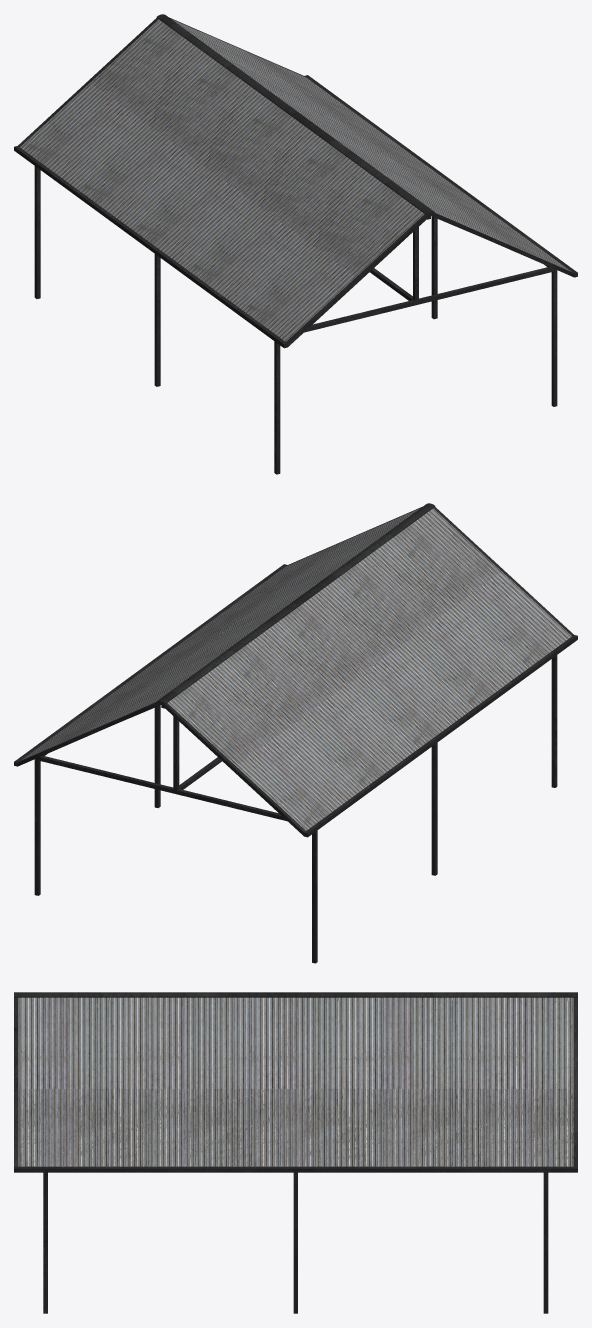
The model's file is carport1.glb.
3 views of the same model, one above another, from view 1: azimuth 30°, elevation 25°; view 2: azimuth 150°, elevation 25°; view 3: azimuth 270°, elevation 25° (orthographic). The views are drawn at different scales.
Parts seen in each view (by area): view 1: Plane.015, Plane.008; view 2: Plane.015, Plane.008; view 3: Plane.015, Plane.008.
Part boxes in pixels (box(x1,y1,x2,y2)): Plane.015: box(20, 19, 571, 341); Plane.008: box(14, 14, 577, 474); Plane.015: box(20, 508, 571, 830); Plane.008: box(14, 503, 577, 963); Plane.015: box(18, 997, 573, 1166); Plane.008: box(14, 992, 577, 1313).
Size of the model in its own units: 11.97 by 9.28 by 19.06.
2 materials, 2 textured.
